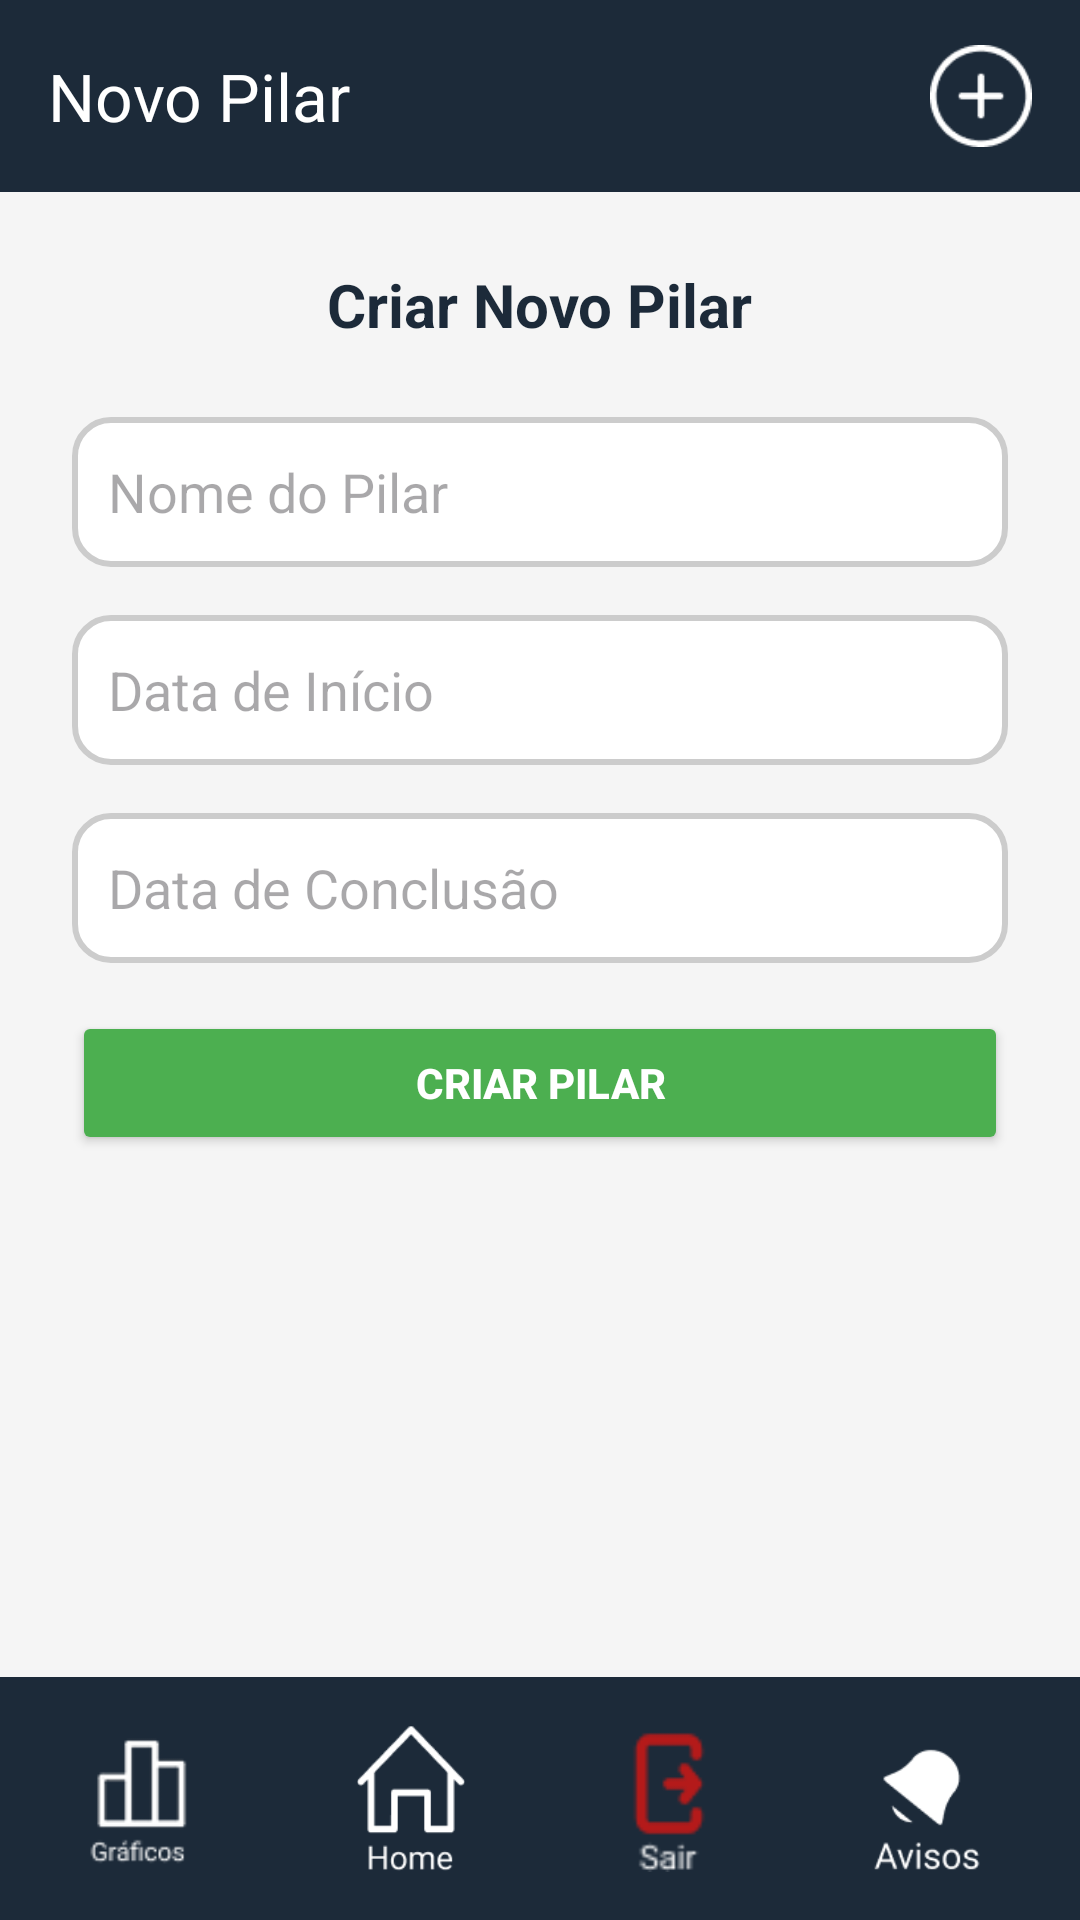

Screen size 1080px×1920px. Icon name, then its box in pixels as box(x1, y1, x2, y2):
Adicionar Pilar: box(930, 45, 1032, 147)
